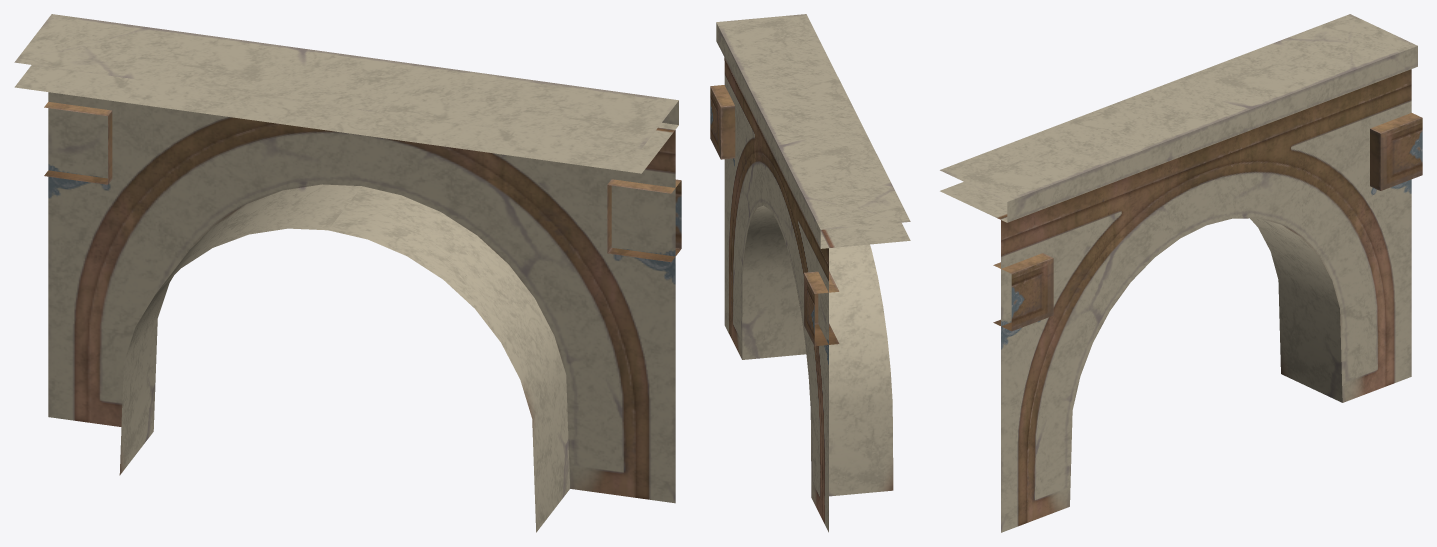
The picture shows the model from 3 angles, left to right: view 1: azimuth 30°, elevation 25°; view 2: azimuth 150°, elevation 25°; view 3: azimuth 270°, elevation 25°; orthographic projection. The views are drawn at different scales.
Visible parts, largest first — view 1: SM_town_BD_1Ftop; view 2: SM_town_BD_1Ftop; view 3: SM_town_BD_1Ftop.
Part boxes in pixels (<box>): SM_town_BD_1Ftop: <box>14,14,681,532</box>; SM_town_BD_1Ftop: <box>710,14,910,532</box>; SM_town_BD_1Ftop: <box>940,14,1422,532</box>.
Size of the model in its own units: 120 by 98.22 by 129.
